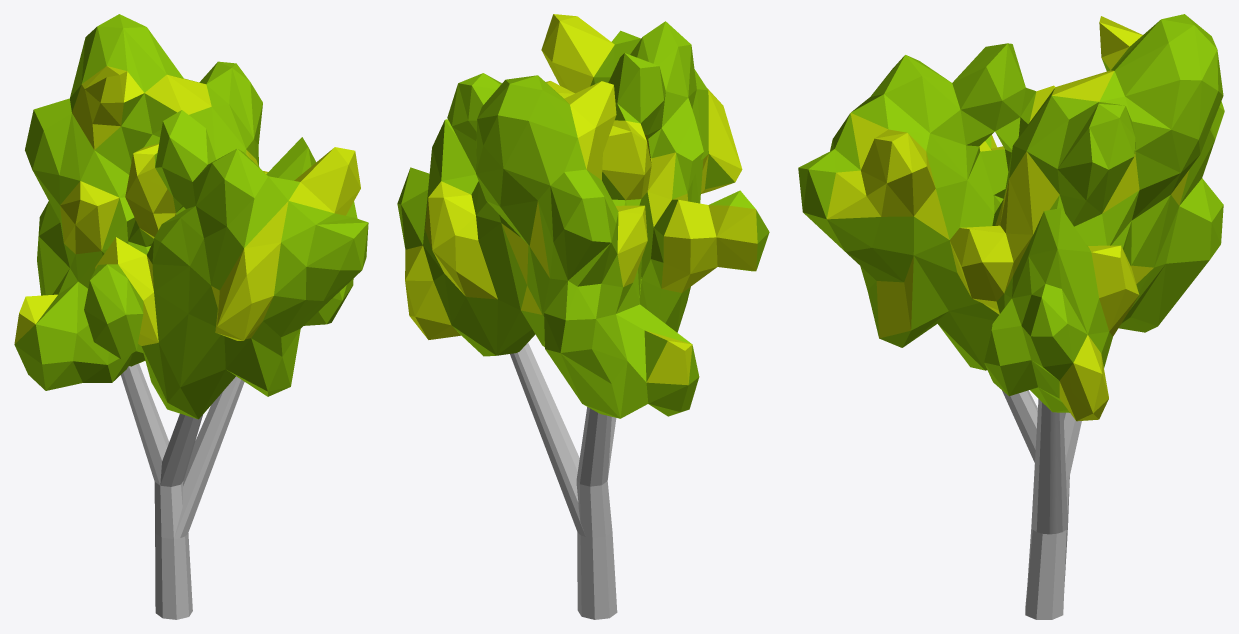
File: Birch.fbx
The picture shows the model from 3 angles, left to right: view 1: azimuth 30°, elevation 25°; view 2: azimuth 150°, elevation 25°; view 3: azimuth 270°, elevation 25°; orthographic projection. The views are drawn at different scales.
Parts seen in each view (by area): view 1: Birch; view 2: Birch; view 3: Birch.
Part boxes in pixels (x1,y1,x2,y2): Birch: (14, 14, 368, 619); Birch: (397, 14, 769, 619); Birch: (798, 14, 1224, 619).
Bounding box in the file's own units: 591 × 998 × 650.
